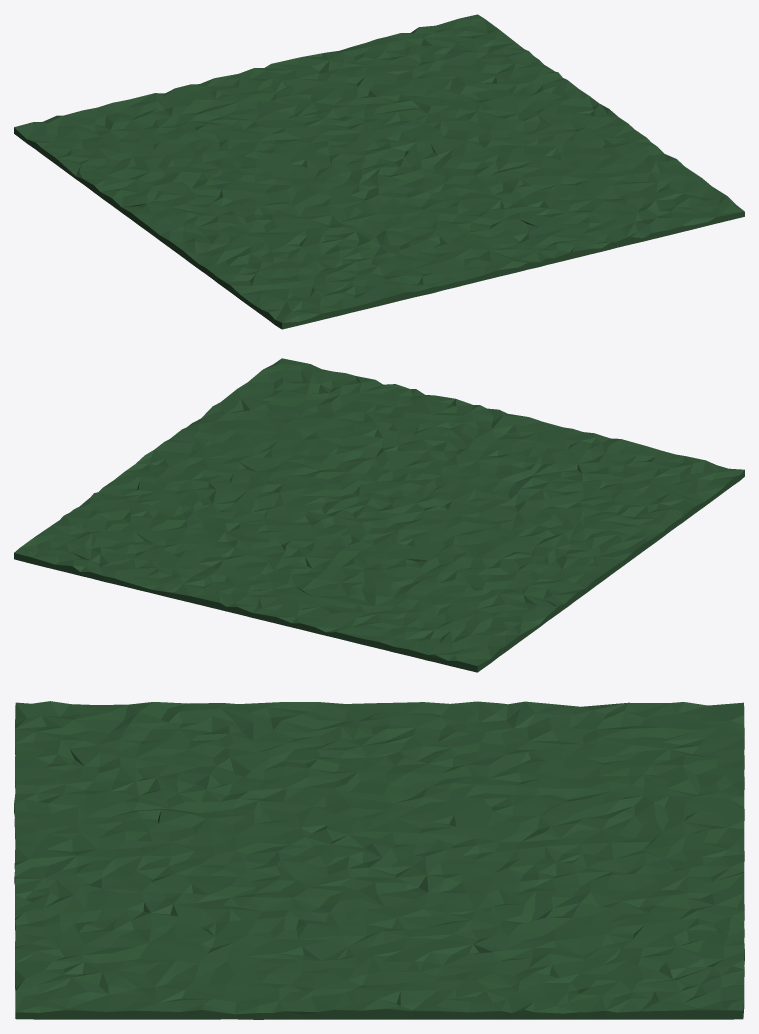
The model's file is terrain_green.fbx.
3 renders of one model, top to bottom at view 1: azimuth 30°, elevation 25°; view 2: azimuth 150°, elevation 25°; view 3: azimuth 270°, elevation 25°, orthographic. The views are drawn at different scales.
Parts seen in each view (by area): view 1: terrain_green; view 2: terrain_green; view 3: terrain_green.
Boxes of the visible parts, left/top/right/bottom form: terrain_green: left=14, top=14, right=744, bottom=329; terrain_green: left=14, top=358, right=744, bottom=672; terrain_green: left=14, top=701, right=744, bottom=1019.
Bounding box in the file's own units: 8014 × 129 × 8022.
